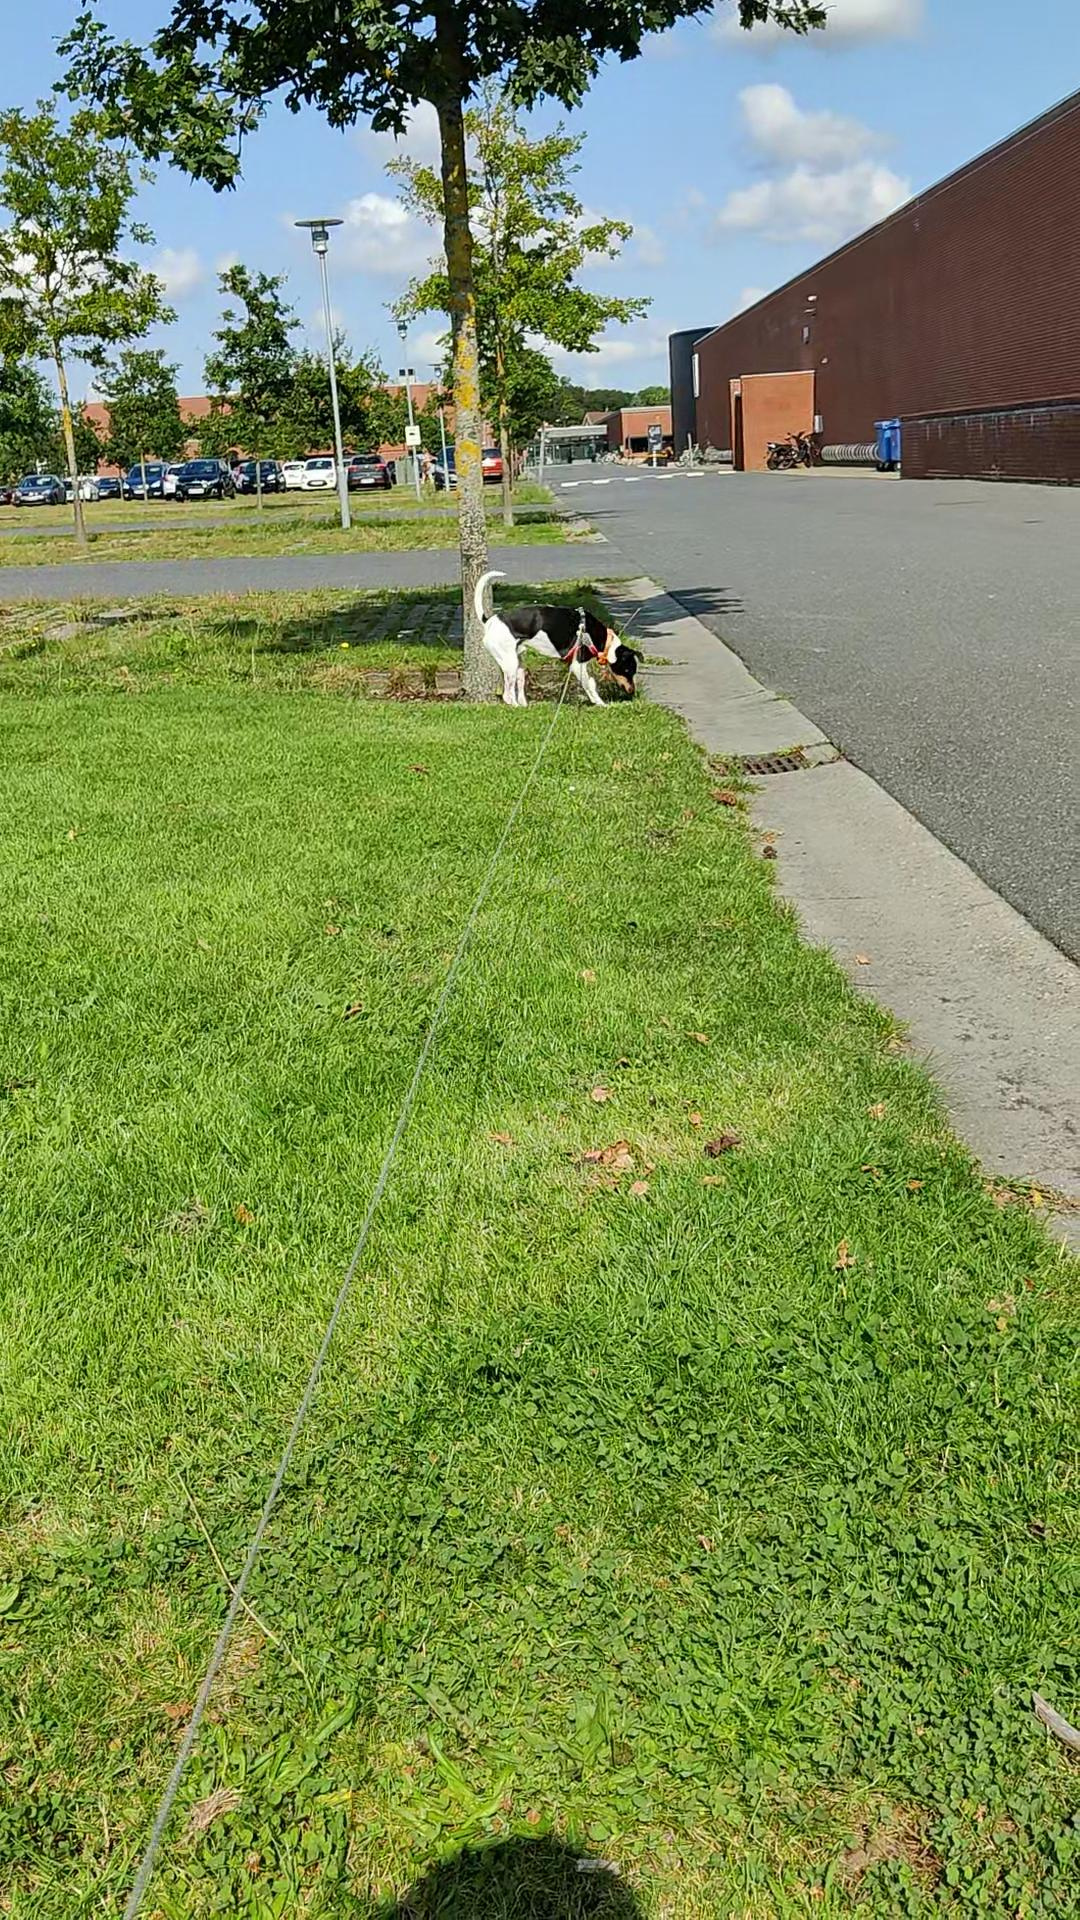Dog: (471, 568, 647, 707)
